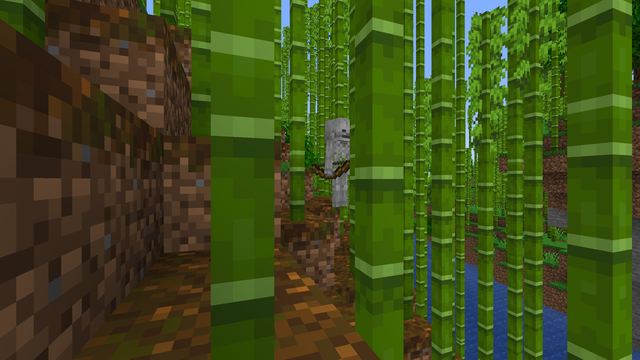squelettes: (323, 117, 348, 207)
